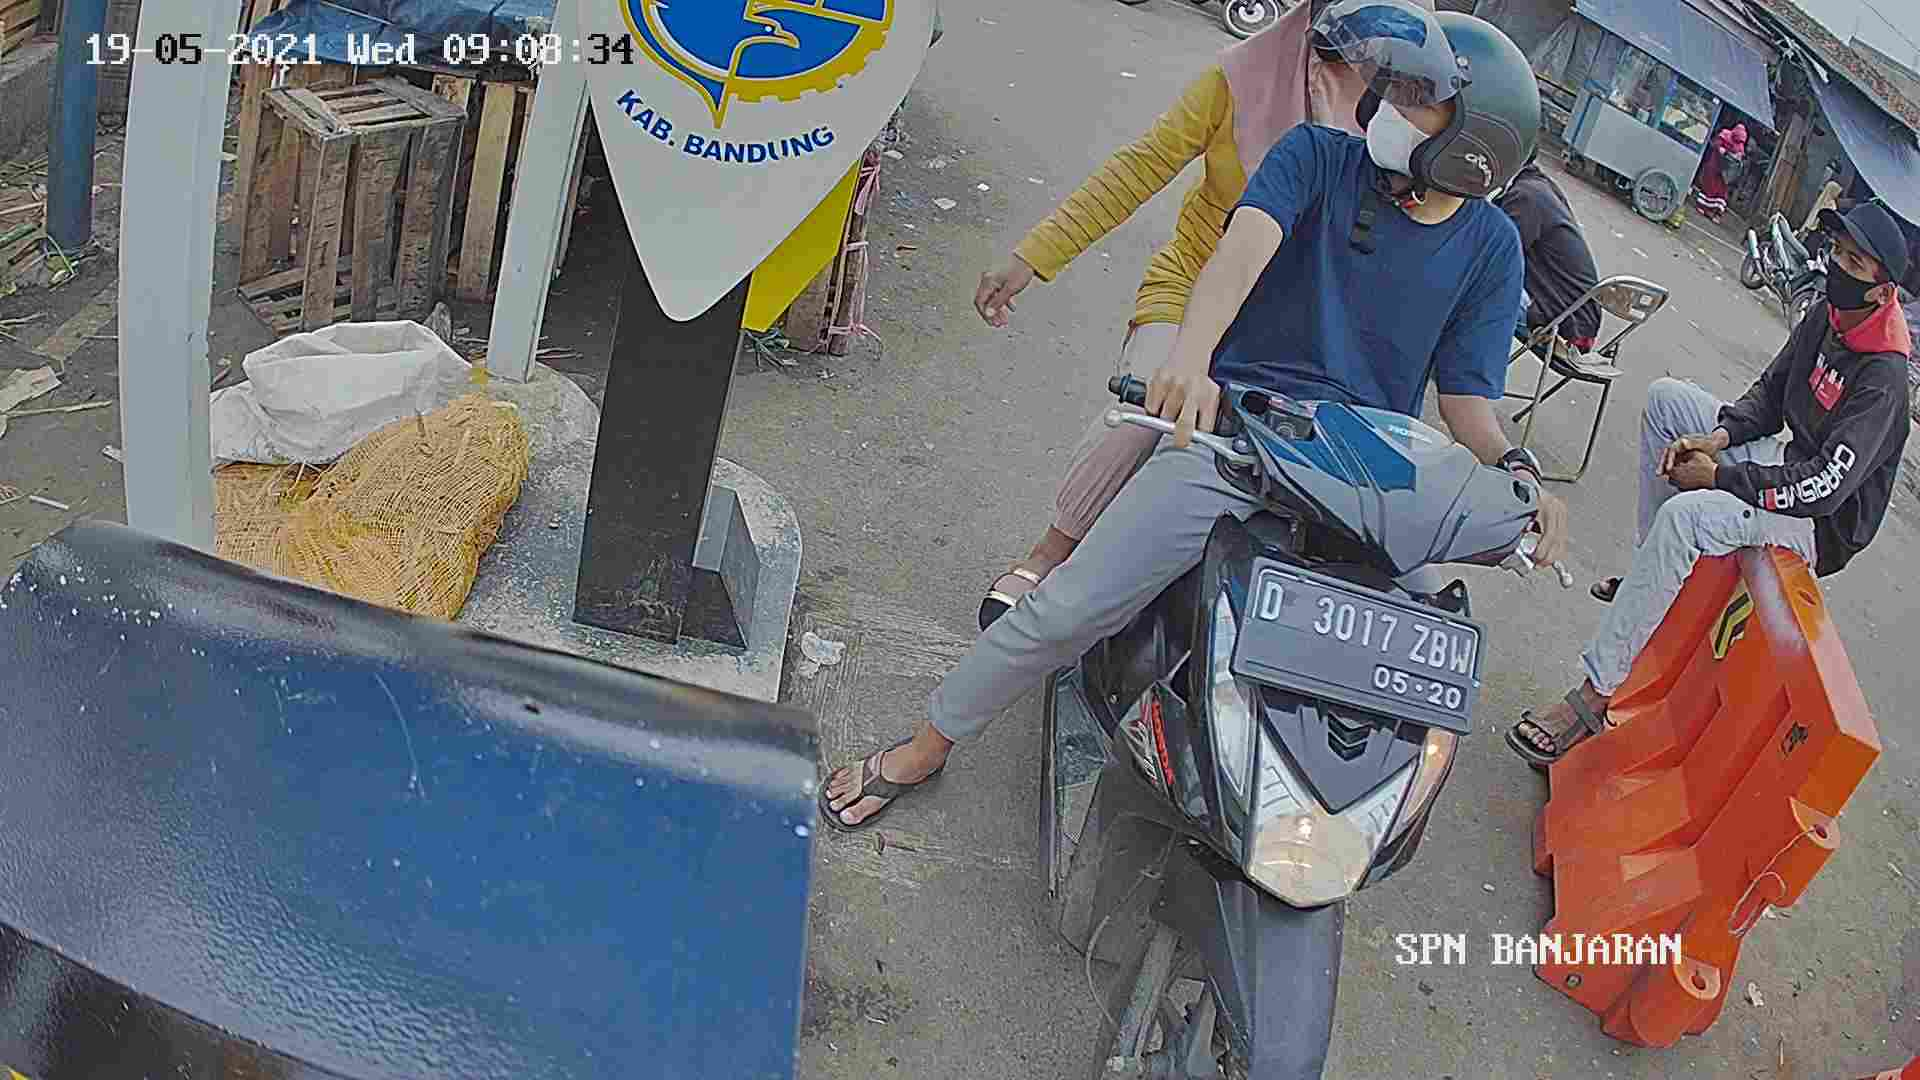motor: (1058, 357, 1491, 1080)
